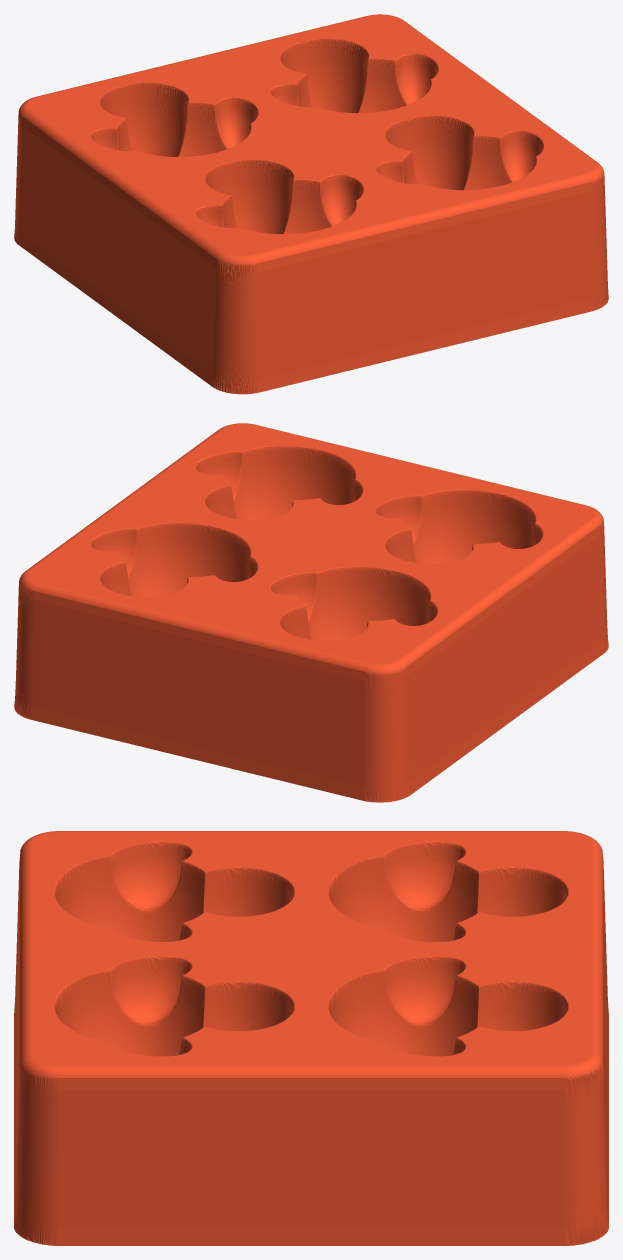
The model's file is mold.glb.
3 views of the same model, one above another, from view 1: azimuth 30°, elevation 25°; view 2: azimuth 150°, elevation 25°; view 3: azimuth 270°, elevation 25° (orthographic). The views are drawn at different scales.
Parts seen in each view (by area): view 1: geometry_0; view 2: geometry_0; view 3: geometry_0.
Boxes of the visible parts, x1=… form: geometry_0: x1=14, y1=14, x2=608, y2=394; geometry_0: x1=14, y1=423, x2=608, y2=802; geometry_0: x1=14, y1=831, x2=608, y2=1245.
Size of the model in its own units: 0.1163 by 0.0377 by 0.1176.
